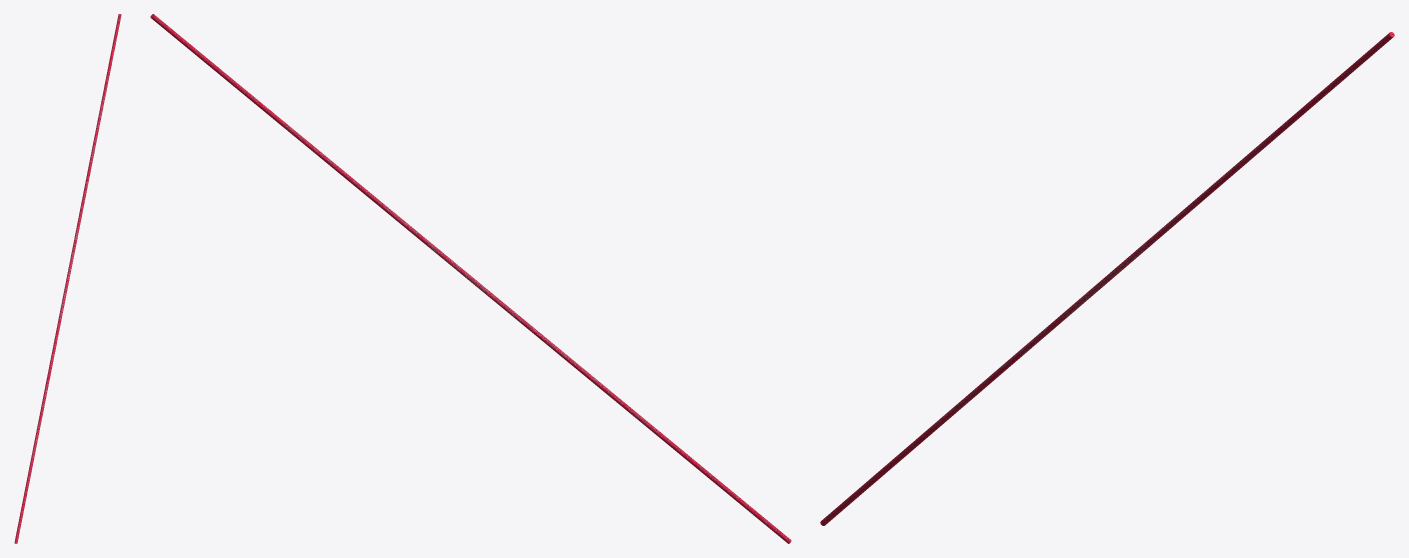
Rendered from iso.fbx.
3 renders of one model, left to right at view 1: azimuth 30°, elevation 25°; view 2: azimuth 150°, elevation 25°; view 3: azimuth 270°, elevation 25°, orthographic. The views are drawn at different scales.
Parts seen in each view (by area): view 1: Model; view 2: Model; view 3: Model.
Boxes of the visible parts, x1,y1,x2,y2 form: Model: [14, 14, 121, 543]; Model: [150, 14, 791, 543]; Model: [820, 32, 1394, 525].
Bounding box in the file's own units: 9.53 × 13.43 × 9.53.
